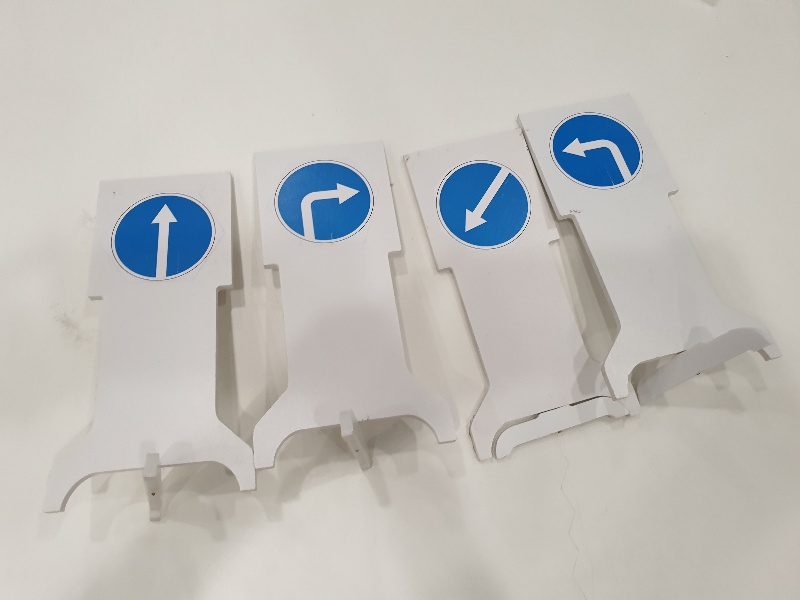Left: (546, 109, 651, 195)
Right: (270, 154, 380, 249)
forw: (105, 187, 222, 285)
prep: (426, 155, 536, 254)
